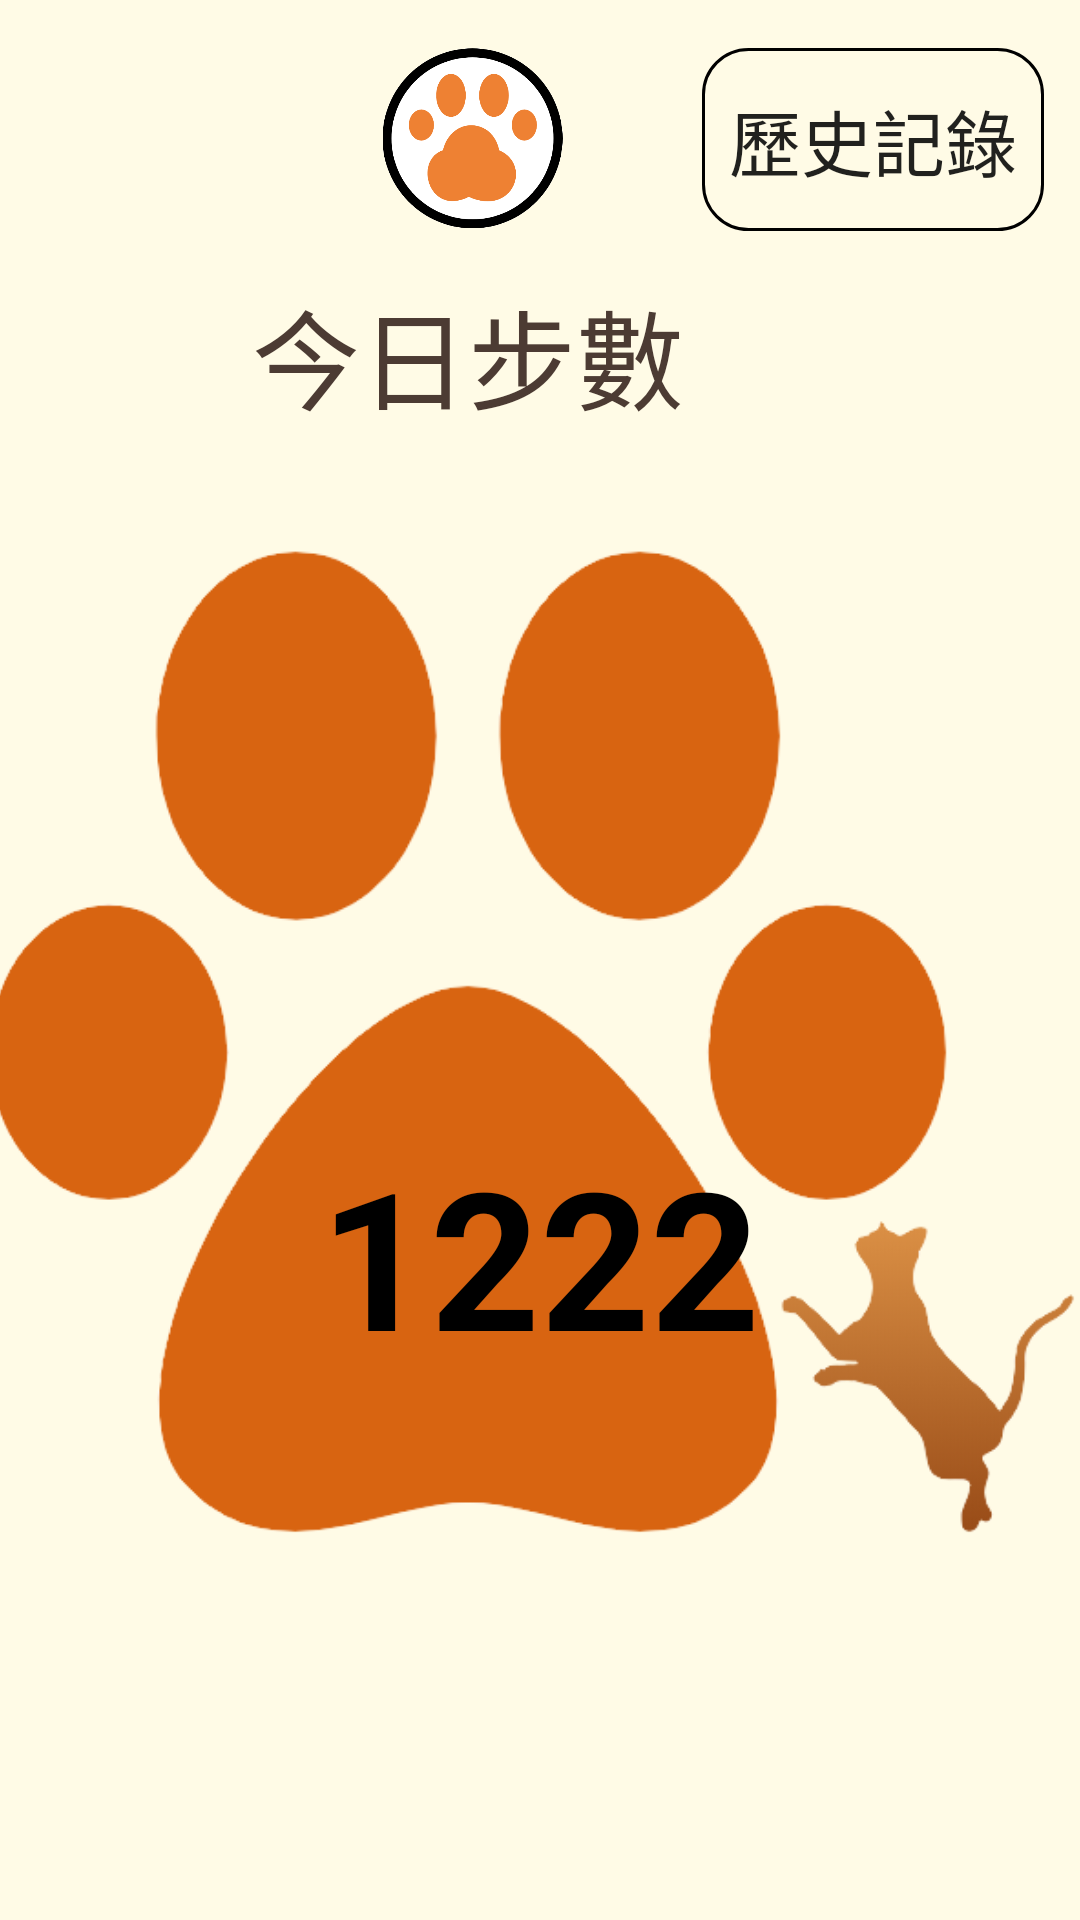

Named icons in this screenshot (1080 x 1920) and their centers, (x=x, y=y):
dogstep: (x=473, y=138)
